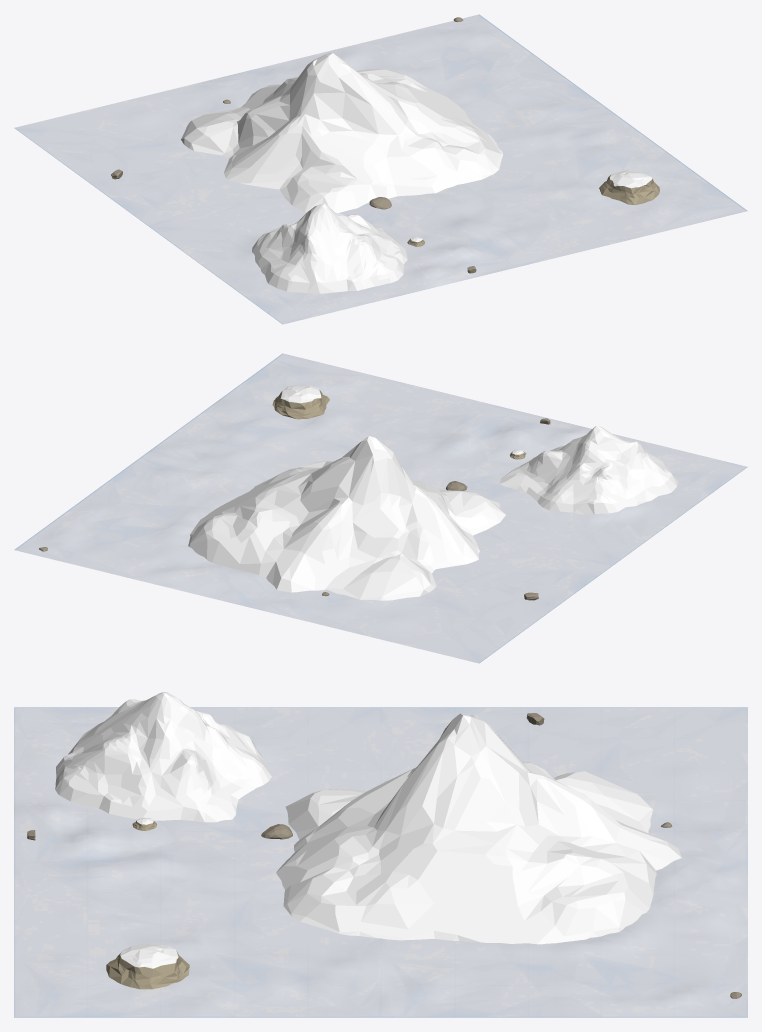
The model's file is Snow_Stepable.fbx.
3 renders of one model, top to bottom at view 1: azimuth 30°, elevation 25°; view 2: azimuth 150°, elevation 25°; view 3: azimuth 270°, elevation 25°, orthographic. The views are drawn at different scales.
Visible parts, largest first — view 1: Plane001, test; view 2: Plane001, test; view 3: Plane001, test, PolygonNature_01.
Boxes of the visible parts, bbox=[...] form: Plane001: bbox=[14, 14, 747, 324]; test: bbox=[181, 53, 659, 293]; Plane001: bbox=[14, 353, 747, 663]; test: bbox=[188, 385, 678, 600]; Plane001: bbox=[14, 707, 747, 1017]; test: bbox=[55, 692, 681, 989]; PolygonNature_01: bbox=[27, 713, 741, 998].
Size of the model in its own units: 99.96 by 22.88 by 99.96.
Materials: 3 (3 with a texture image).
